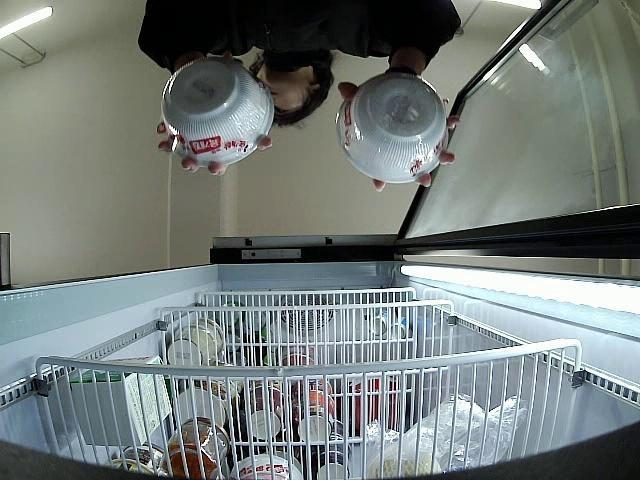09_yukGaeJang: (335, 74, 450, 182), (160, 58, 274, 166)
